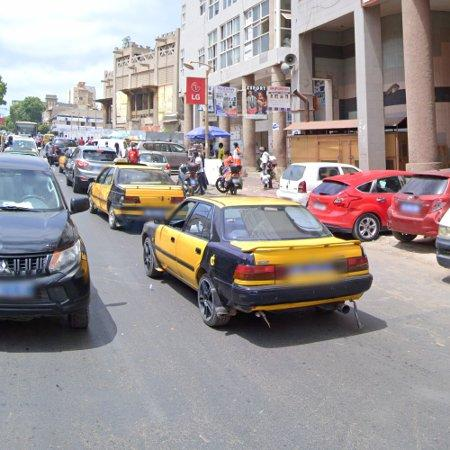taxis: (142, 197, 373, 327), (89, 165, 184, 229)
